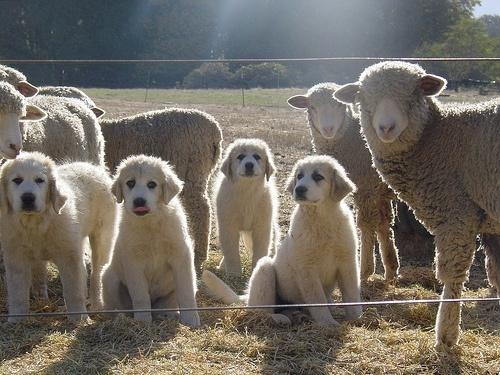dog: (204, 153, 368, 326), (1, 159, 121, 326), (100, 156, 206, 330), (213, 138, 284, 283)
sheep: (336, 59, 500, 351), (288, 81, 408, 284), (99, 103, 221, 272), (1, 84, 109, 158)
